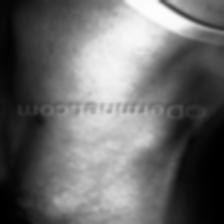Toxin: (32, 114, 50, 128)
